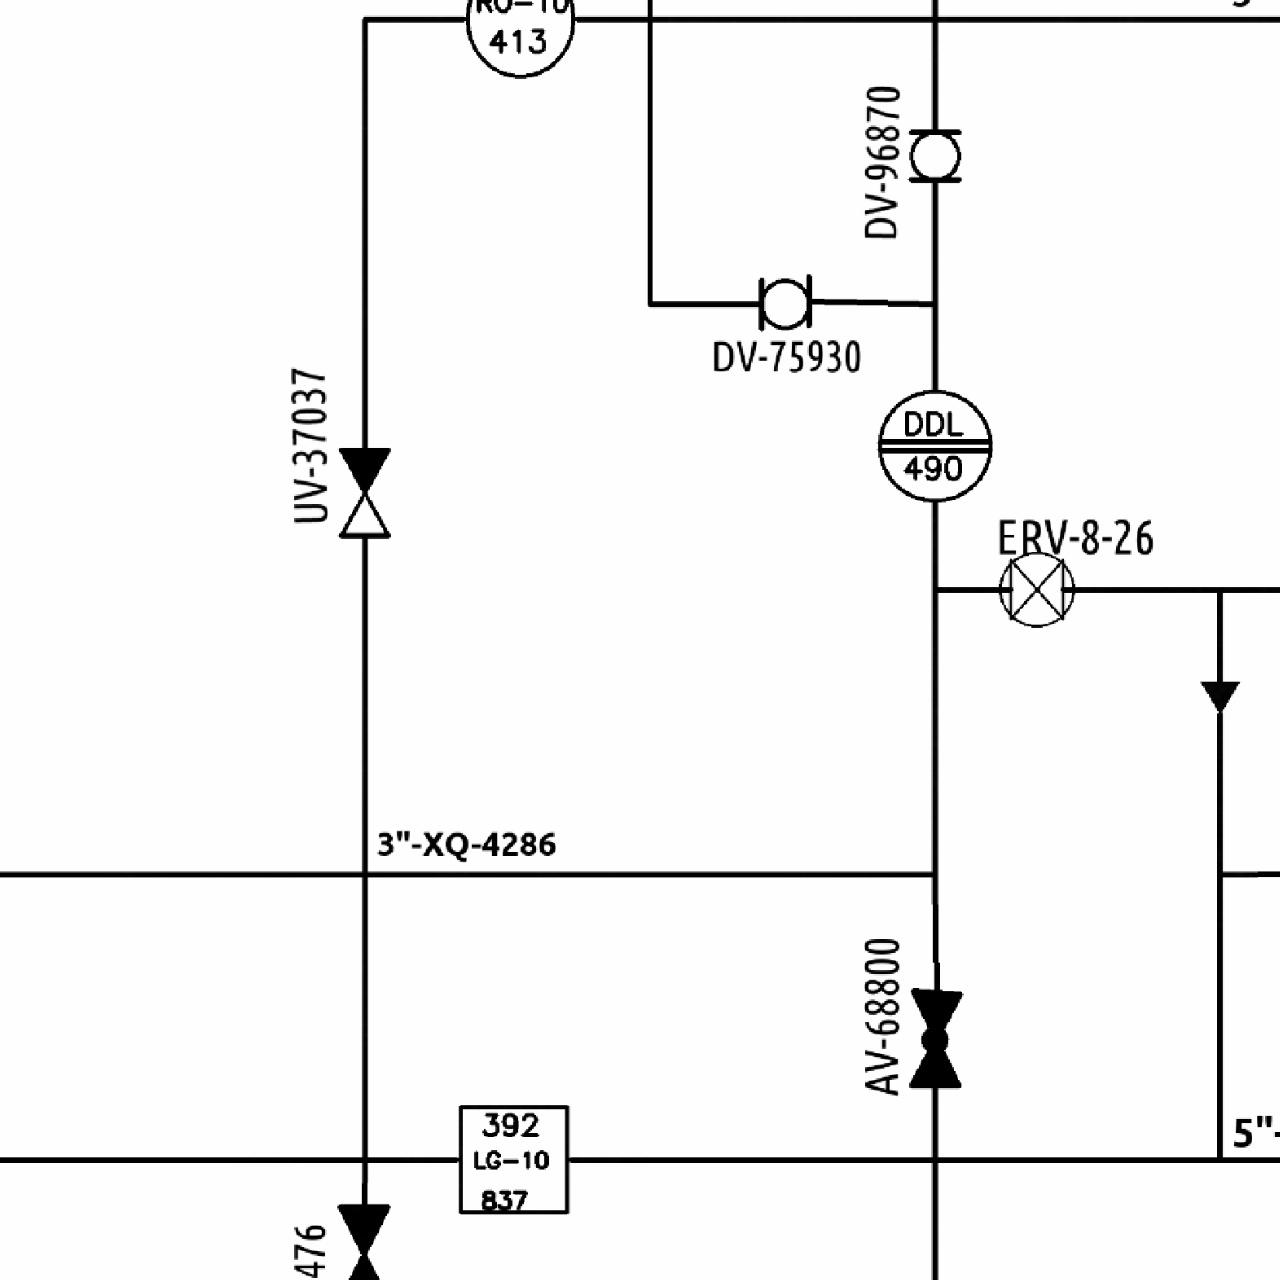Control-Panel: (869, 381, 993, 508)
Half closed valve: (334, 442, 394, 542)
